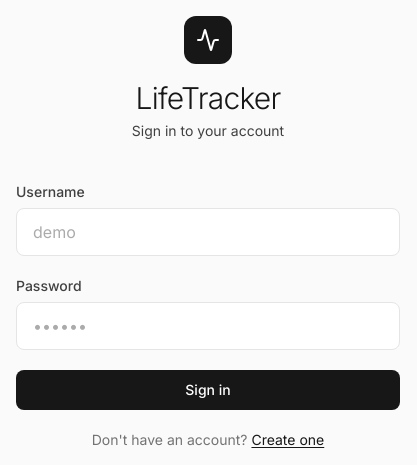
LoginPage › button shows "Signing in…" during loading
Type "testuser" into the field with placeholder "demo" at (208, 232), box [16,208,400,256]
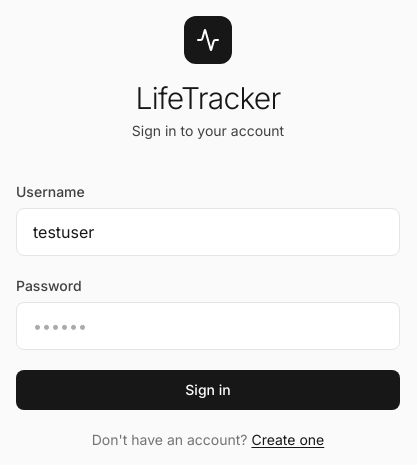
Type "password" into the password field with placeholder "••••••" at (208, 326), box [16,302,400,350]
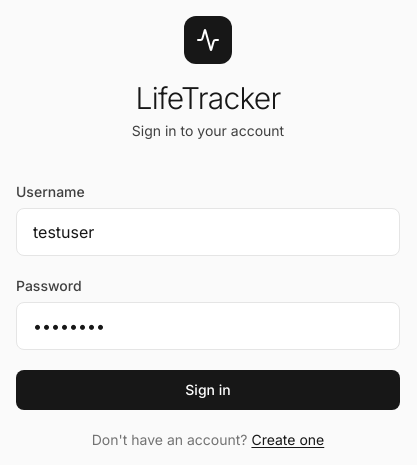
Click the button "Sign in" at (208, 390), box [16,370,400,410]
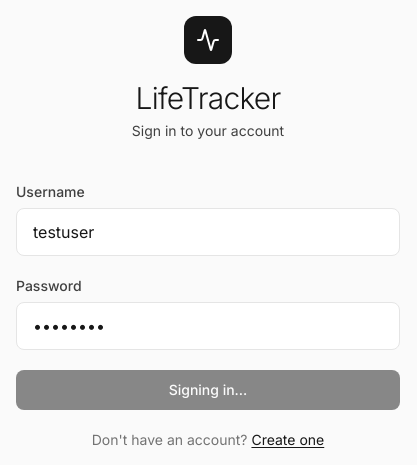
Expected: the button "Signing in…" is shown, [16,370,400,410]
